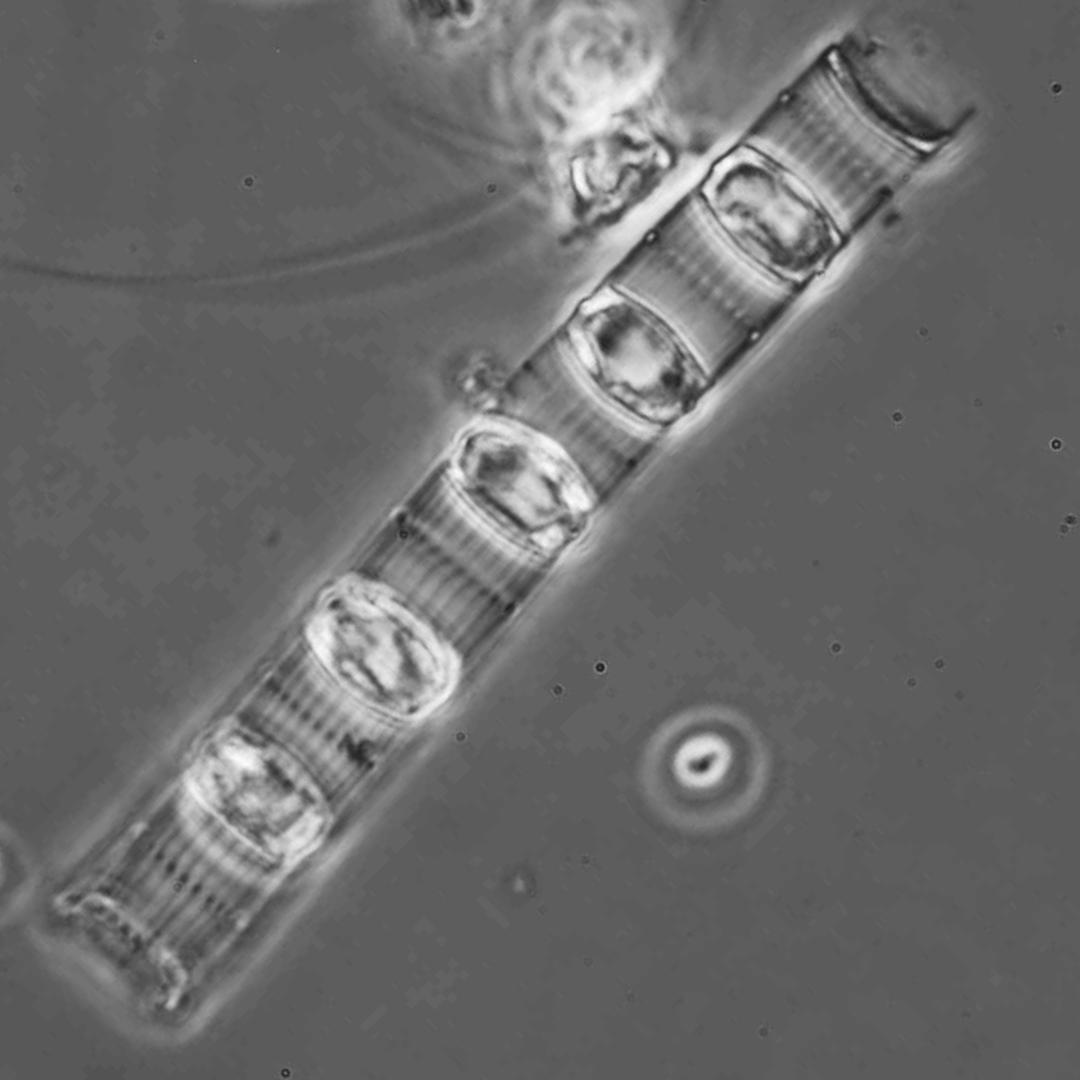skeletonema_costatum: (51, 36, 976, 1013)
